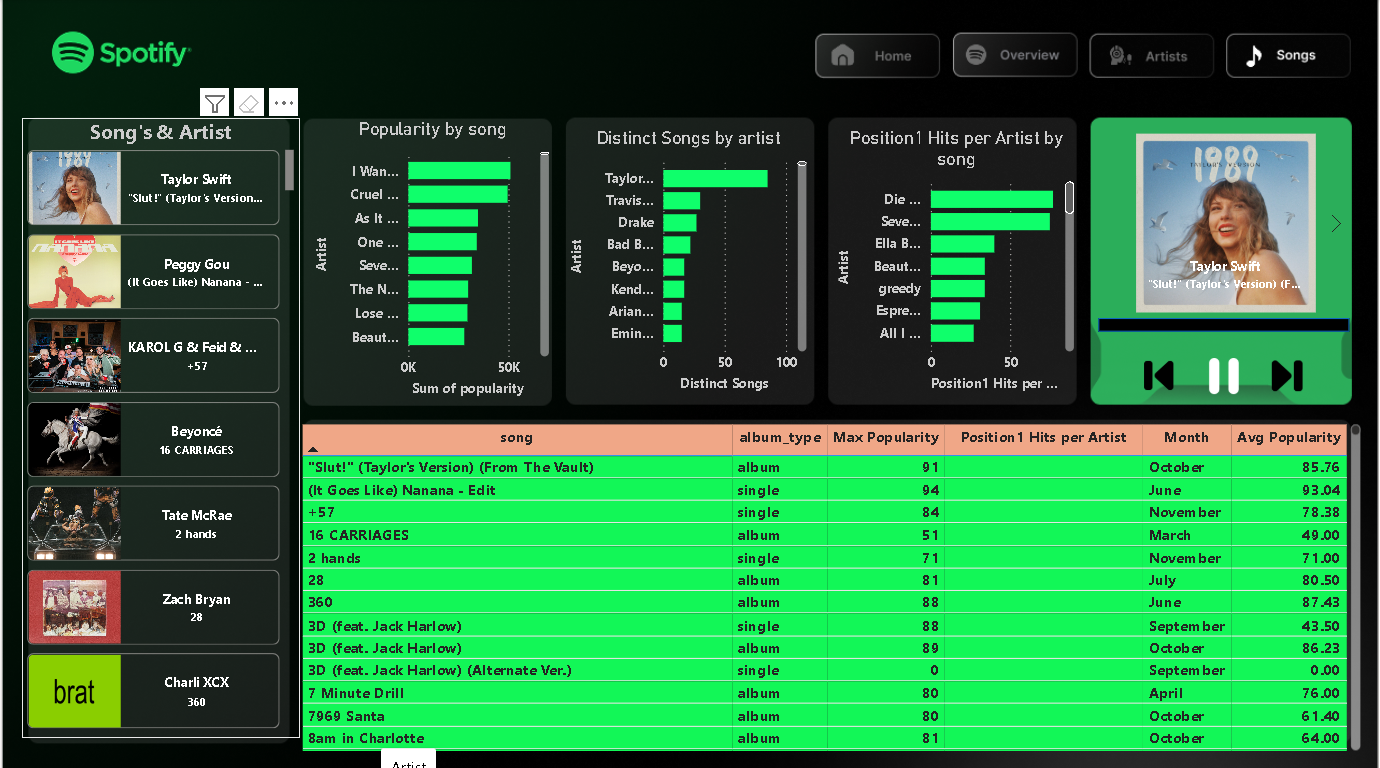

What the dashboard file says about the page in this screenshot:
{"tool":"powerbi","page":{"name":"Song's ","canvas":[1280,720],"ordinal":3},"visuals":[{"type":"actionButton","box":[757.9,34,117.4,38.4],"z":0},{"type":"actionButton","box":[884.7,35.1,117.4,38.4],"z":1},{"type":"actionButton","box":[1013.7,36.3,117.4,38.4],"z":2},{"type":"actionButton","box":[1141.6,36.3,117.4,38.4],"z":3},{"type":"tableEx","fields":{"Values":["Top-50-world.song","Top-50-world.album_type","_Measure.Max Popularity","_Measure.Position1 Hits per Artist","Top-50-world.release_date.Variation.Date Hierarchy.Month","_Measure.Avg Popularity"]},"box":[273.3,391.9,995.4,312.8],"z":4},{"type":"clusteredBarChart","title":"Popularity by song","fields":{"Category":["Top-50-world.song"],"Y":["Sum(Top-50-world.popularity)"]},"box":[287.2,111.6,226.7,264],"z":5},{"type":"clusteredBarChart","fields":{"Category":["Top-50-world.artist"],"Y":["_Measure.Distinct Songs"]},"box":[524.4,119.8,229.1,251.2],"z":6},{"type":"clusteredBarChart","fields":{"Category":["Top-50-world.song"],"Y":["_Measure.Position1 Hits per Artist"]},"box":[773.3,119.8,229.1,251.2],"z":7},{"type":"advancedSlicerVisual","title":"Song''s & Artist","fields":{"Values":["Top-50-world.song"]},"box":[1019.8,119.3,237.2,179.1],"z":8},{"type":"shape","box":[1019.8,297.2,233.7,12.8],"z":9},{"type":"image","box":[1116.3,334.4,40.7,33.7],"z":10},{"type":"image","box":[1179.1,327.4,32.6,47.7],"z":11},{"type":"image","box":[1060.5,326.3,31.4,48.8],"z":12},{"type":"advancedSlicerVisual","title":"Song''s & Artist","fields":{"Values":["Top-50-world.song"]},"box":[18.6,111.6,258.1,576.7],"z":13}]}

Visuals, with their boxes in screenshot pixels (x1, y1, x2, y2), scaled from the page's 1280x720 canvas onto the 1380x768 screenshot:
actionButton: <box>817,36,944,77</box>
actionButton: <box>954,37,1080,78</box>
actionButton: <box>1093,39,1219,80</box>
actionButton: <box>1231,39,1357,80</box>
tableEx - Top-50-world.song x Top-50-world.album_type: <box>295,418,1368,752</box>
"Popularity by song" clusteredBarChart: <box>310,119,554,401</box>
clusteredBarChart - Top-50-world.artist x _Measure.Distinct Songs: <box>565,128,812,396</box>
clusteredBarChart - Top-50-world.song x _Measure.Position1 Hits per Artist: <box>834,128,1081,396</box>
"Song''s & Artist" advancedSlicerVisual: <box>1099,127,1355,318</box>
shape: <box>1099,317,1351,331</box>
image: <box>1204,357,1247,393</box>
image: <box>1271,349,1306,400</box>
image: <box>1143,348,1177,400</box>
"Song''s & Artist" advancedSlicerVisual: <box>20,119,298,734</box>
